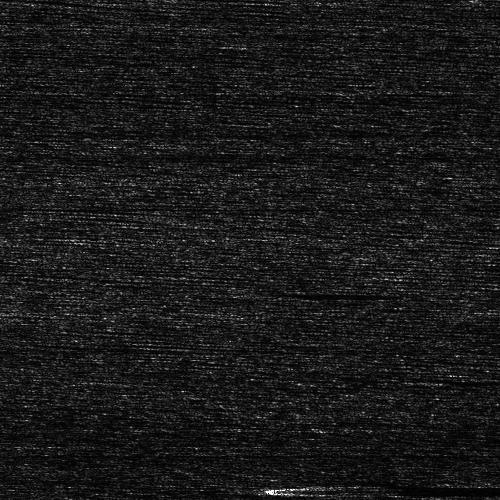object: (229, 292, 282, 297), (283, 485, 314, 492), (414, 379, 455, 382)
shadow: (256, 292, 371, 297), (299, 485, 355, 492), (435, 379, 500, 382)
